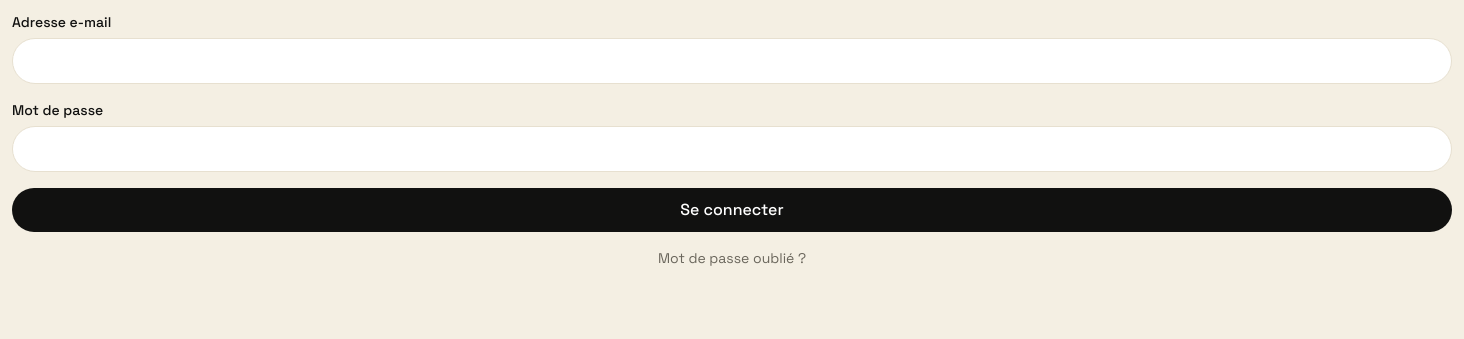
it: LoginForm › sends a reset e-mail and shows a NEUTRAL notice that never confirms the address exists
This screenshot has width=1464, height=339.
Type "client@example.test" into the field labelled "Adresse e-mail".
click(732, 61); type("client@example.test")  # box [12,38,1452,84]
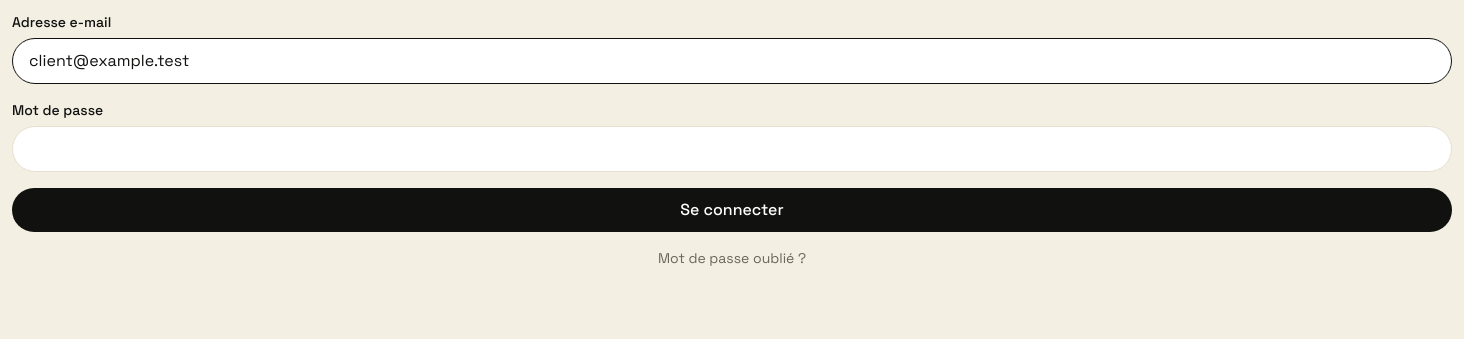
Click the button "Mot de passe oublié ?".
click(732, 258)  # box [12,248,1452,268]
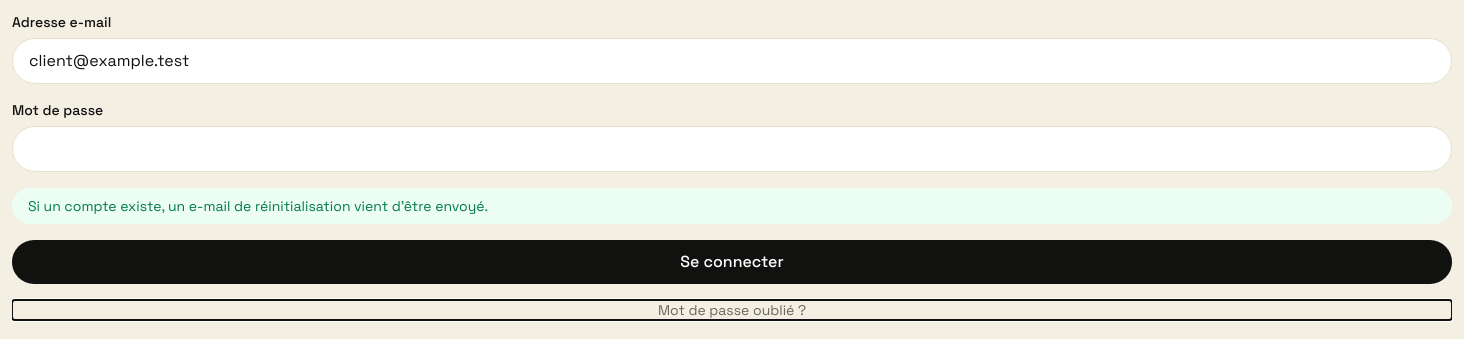
Expected: the message does not show "client@example.test", [12,188,1452,224]
Expected: the message shows "Si un compte existe", [28,197,488,215]
